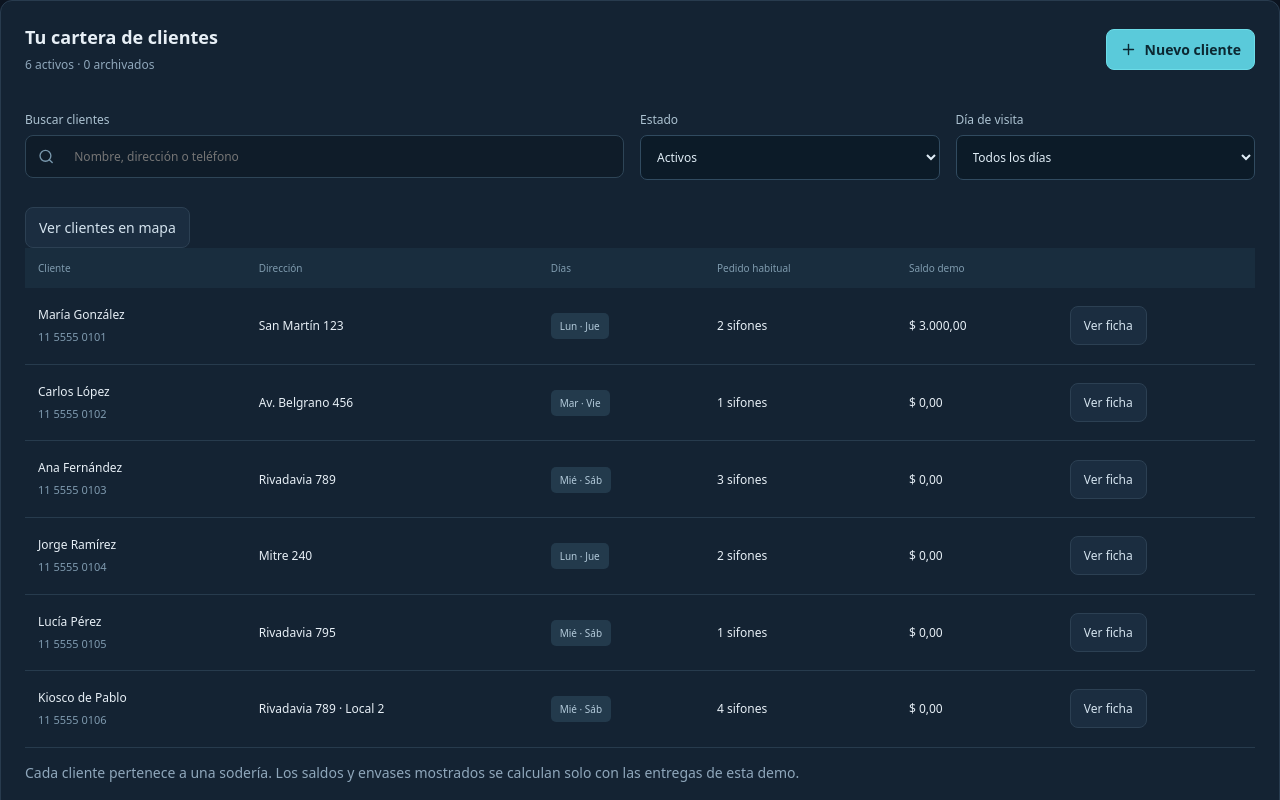
Test: busca por teléfono y filtra por día de visita
The width and height of the screenshot is (1280, 800).
Step 1. Type "0102" into the field with placeholder "Nombre, dirección o teléfono" → [337, 157], box x1=62 y1=136 x2=611 y2=177
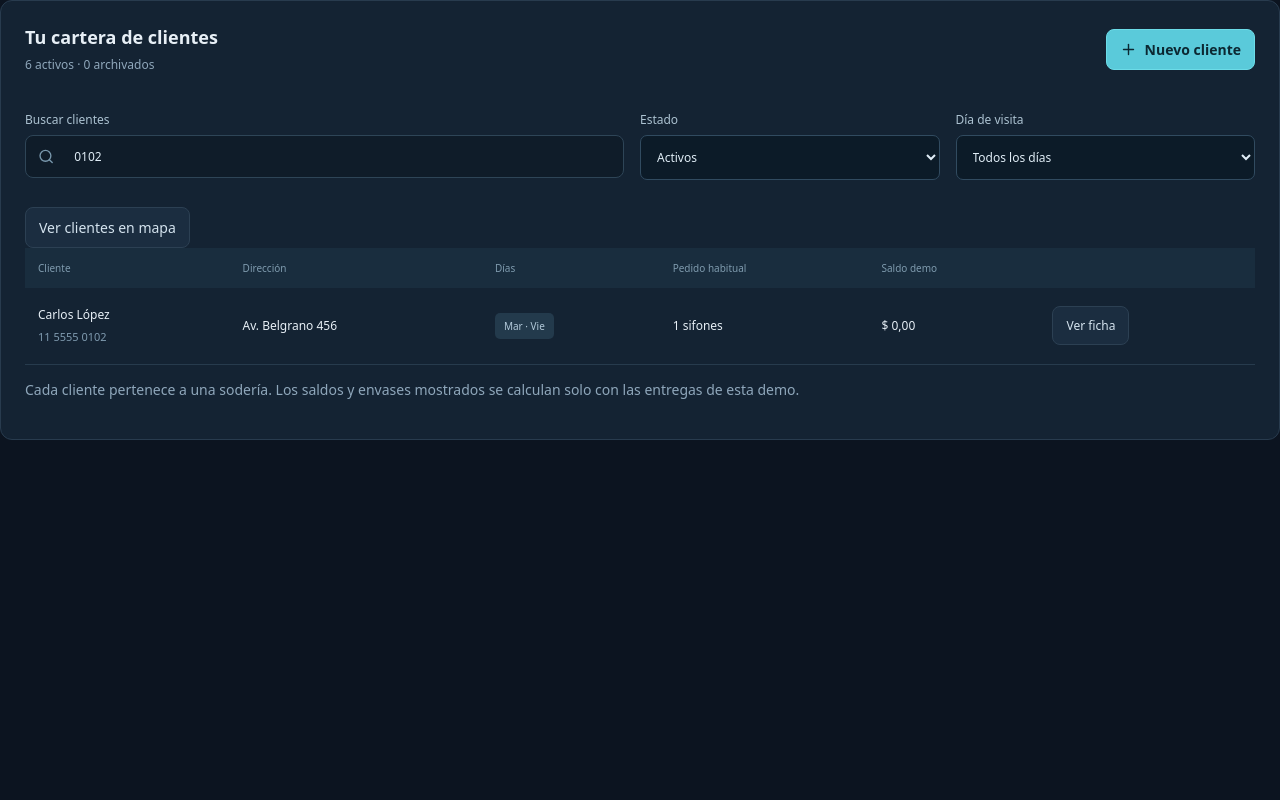
Check: the text "Carlos López" is shown, box x1=38 y1=306 x2=110 y2=323
Check: the text "María González" is gone
Step 2. Select "Lun" in the dropdown labelled "Día de visita" → [1105, 158], box x1=956 y1=135 x2=1255 y2=180
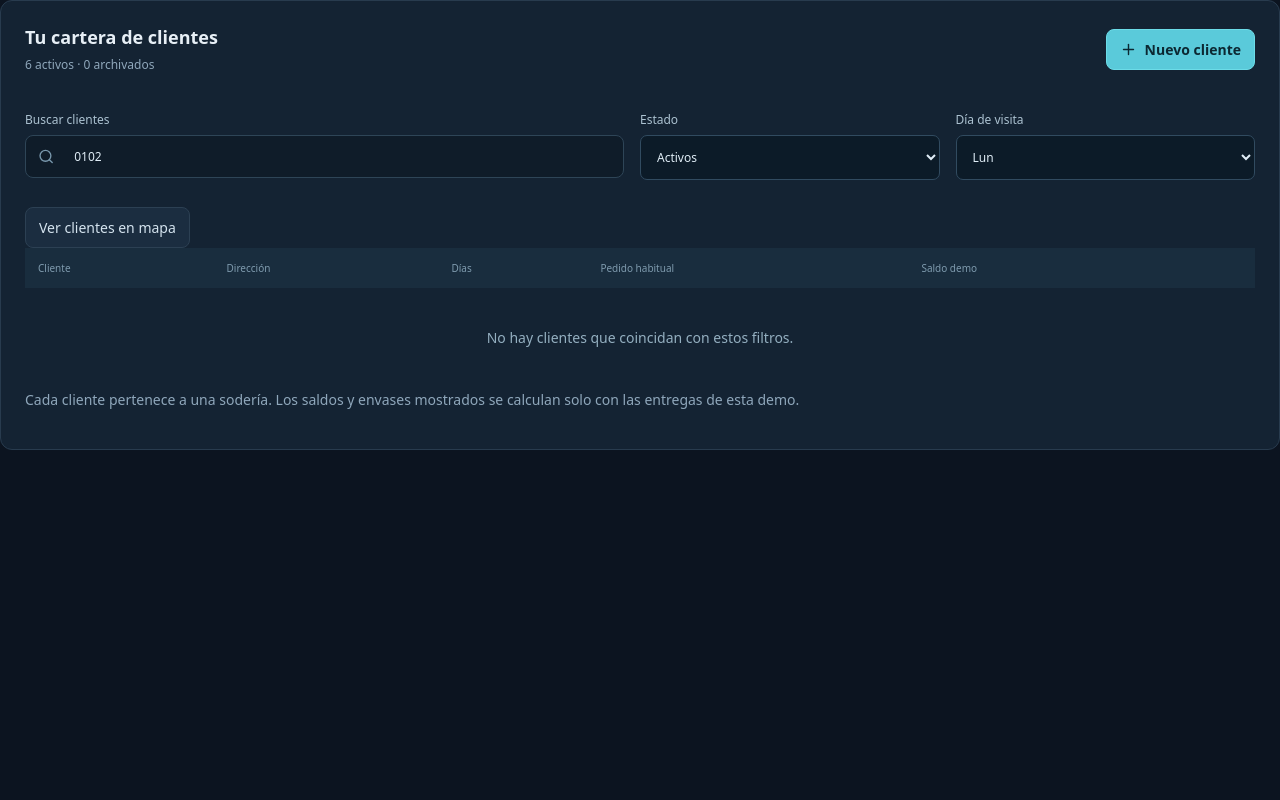
Check: the text "No hay clientes que coincidan con estos filtros." is shown, box x1=487 y1=328 x2=793 y2=347
